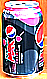pepsi: (1, 1, 44, 78)
